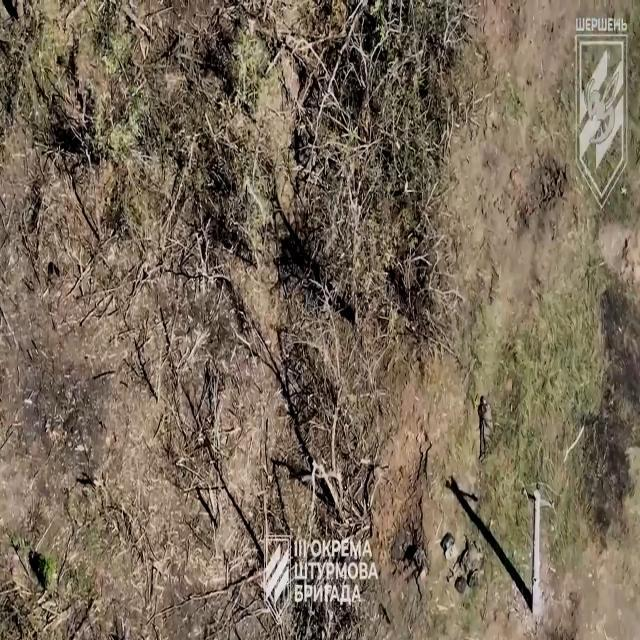MIL_Pax: (448, 540, 482, 593), (478, 396, 492, 462)
